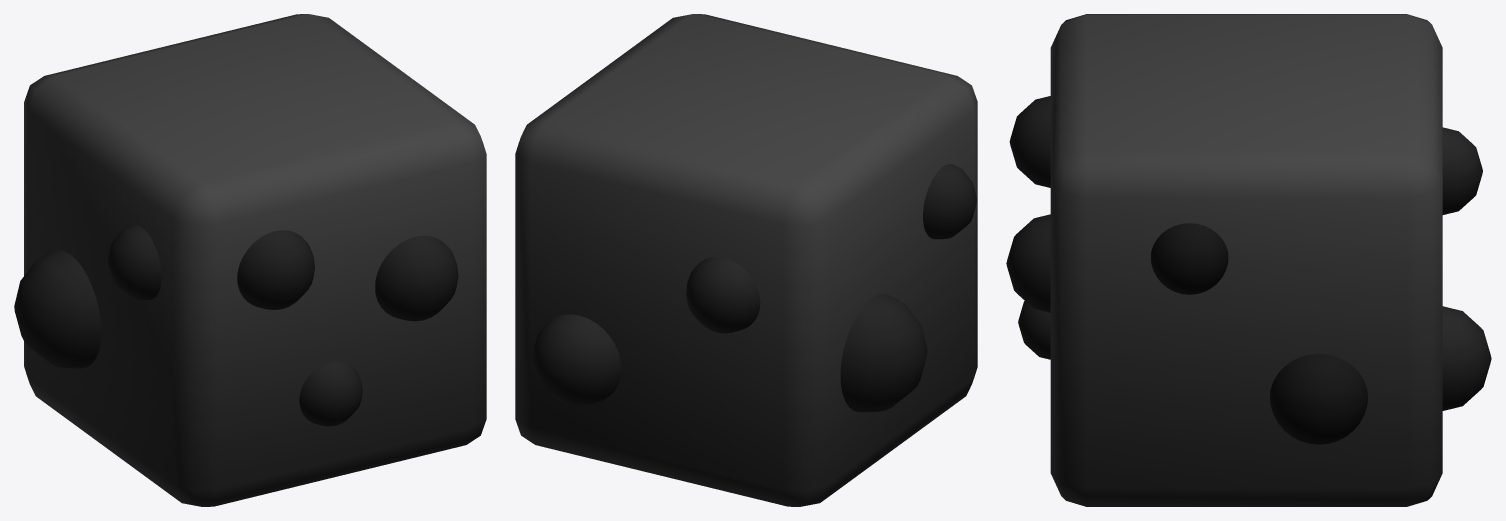
Rendered from usdestructable.fbx.
3 renders of one model, left to right at view 1: azimuth 30°, elevation 25°; view 2: azimuth 150°, elevation 25°; view 3: azimuth 270°, elevation 25°, orthographic. The views are drawn at different scales.
Visible parts, largest first — view 1: Cube, Sphere; view 2: Cube, Sphere; view 3: Cube, Sphere.
Part boxes in pixels (<box>): Cube: <box>24,14,486,506</box>; Sphere: <box>14,224,458,426</box>; Cube: <box>515,14,977,506</box>; Sphere: <box>533,164,976,412</box>; Cube: <box>1050,14,1442,506</box>; Sphere: <box>1006,96,1491,444</box>.
Bounding box in the file's own units: 1.27 × 1 × 1.24.
